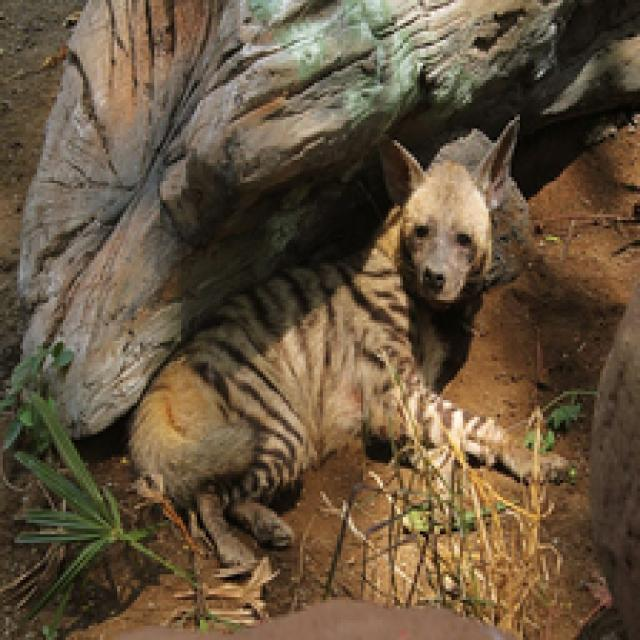hyena: (137, 148, 510, 535)
